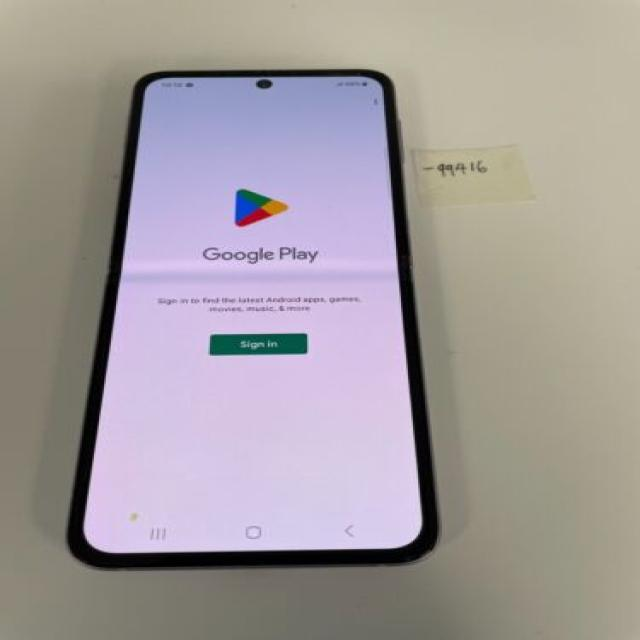dead pixel: (117, 504, 157, 530)
